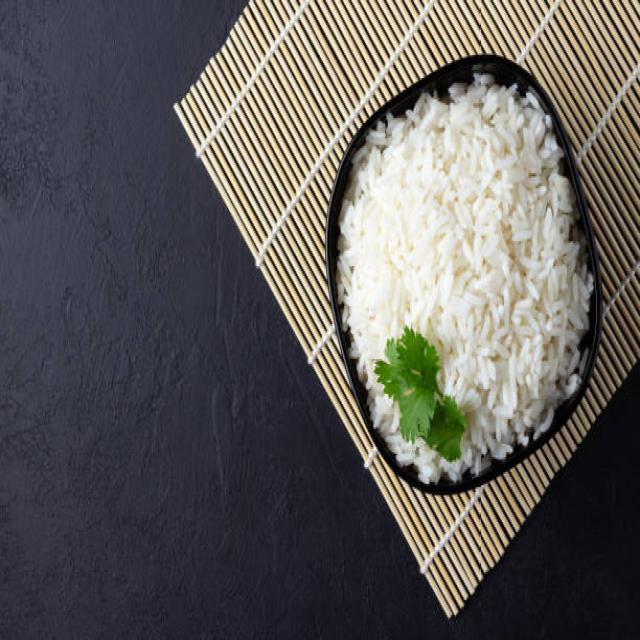rice: (337, 70, 594, 484)
